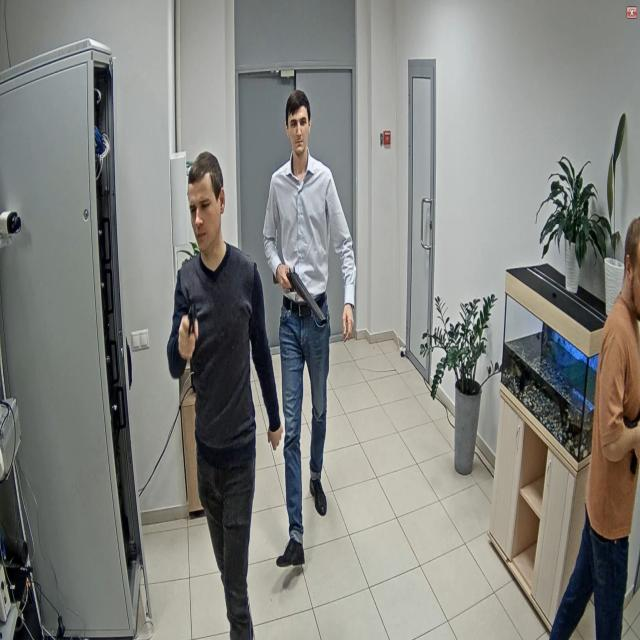-Gun: (290, 272, 326, 327), (188, 306, 197, 334)
